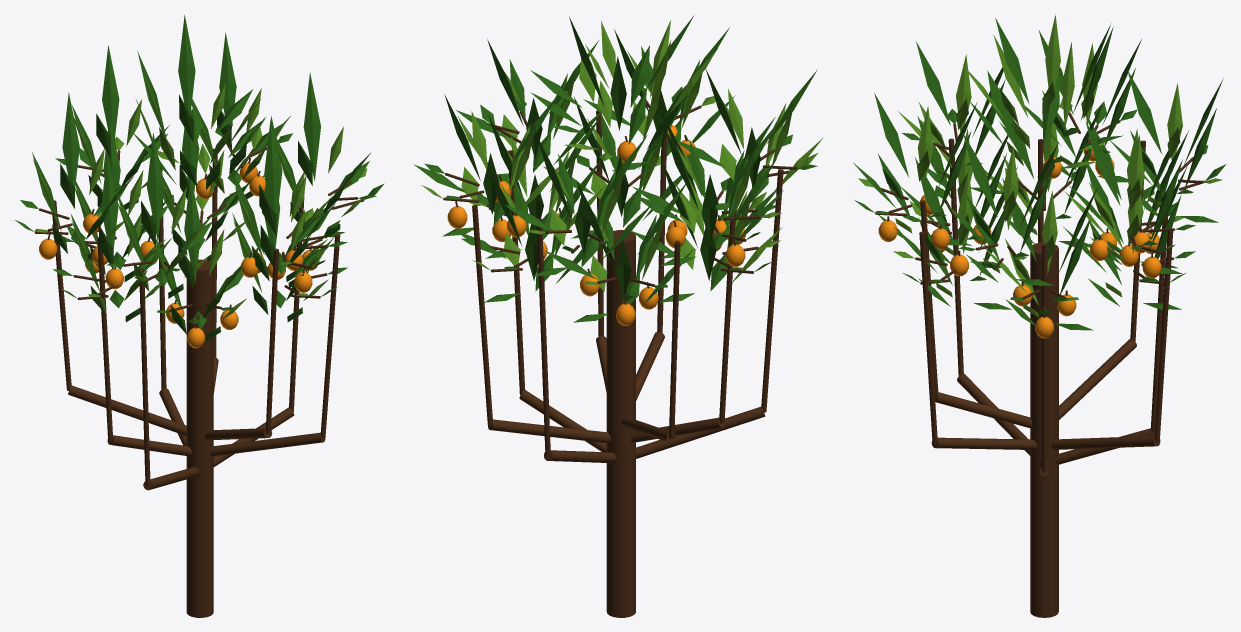
The model's file is Kortefa.obj.
3 renders of one model, left to right at view 1: azimuth 30°, elevation 25°; view 2: azimuth 150°, elevation 25°; view 3: azimuth 270°, elevation 25°, orthographic. The views are drawn at different scales.
Bounding box in the file's own units: 2.56 × 4.38 × 2.48.
